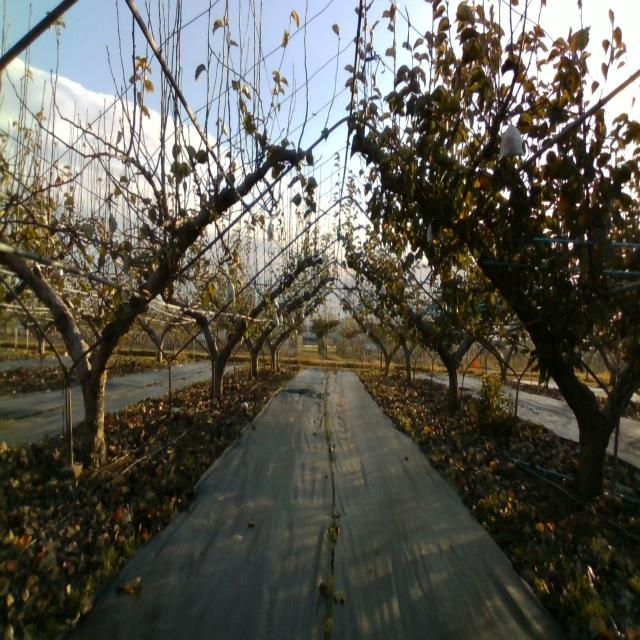pearbags: (498, 116, 524, 161), (225, 280, 236, 300)
